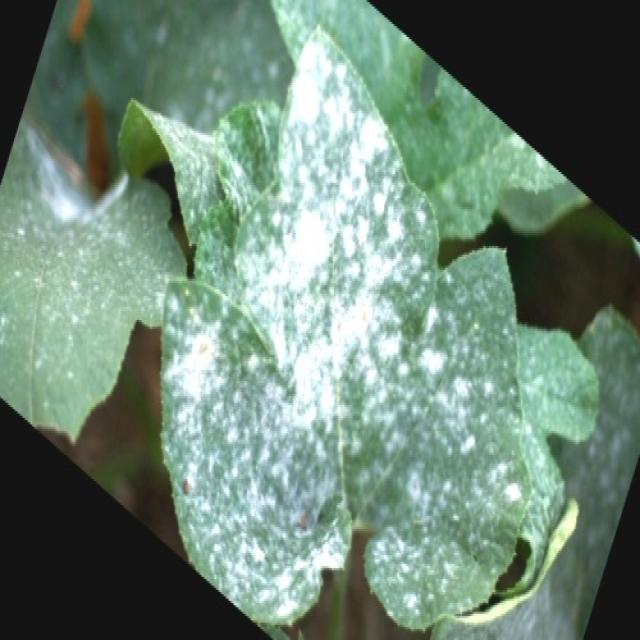Powdery Mildew: (1, 2, 635, 634), (159, 274, 352, 627)
